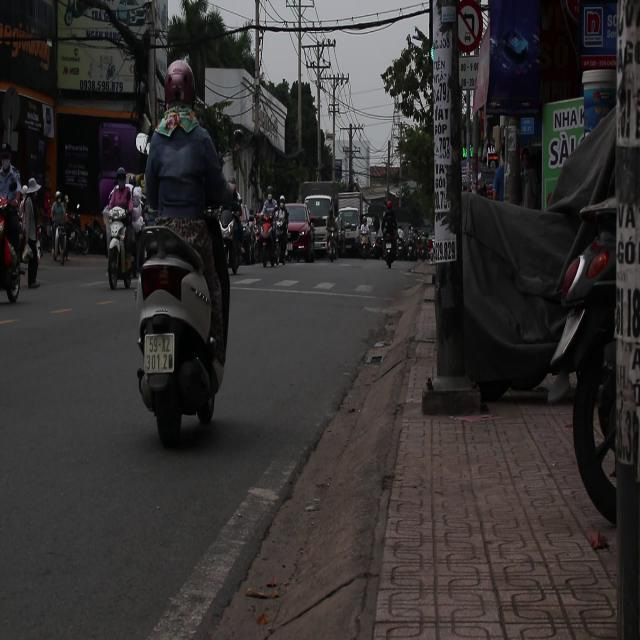car: (281, 204, 316, 262), (334, 208, 363, 258)
motorbike: (132, 223, 227, 446), (105, 209, 141, 291), (50, 206, 89, 261), (220, 205, 248, 275), (260, 205, 289, 268), (255, 209, 278, 268)
truck: (302, 184, 338, 257)
